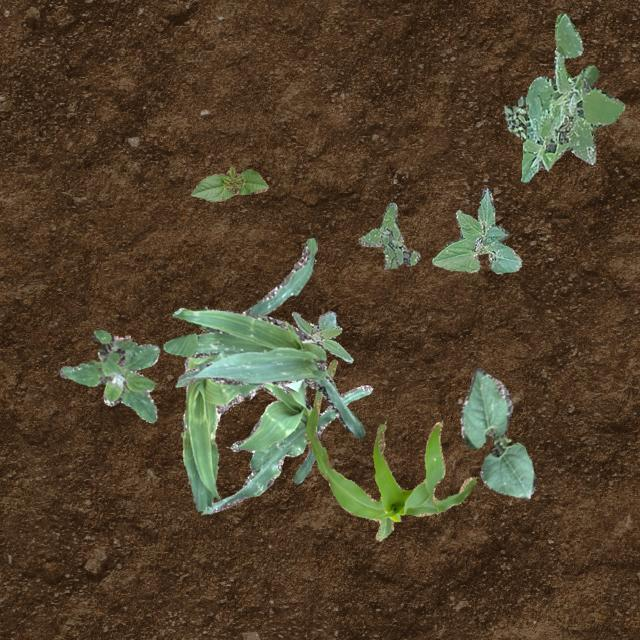crop: (180, 234, 316, 511), (304, 358, 476, 540), (162, 306, 364, 440), (200, 378, 372, 514), (460, 366, 534, 498), (430, 186, 520, 272), (190, 166, 268, 200)
weed: (520, 12, 624, 180), (58, 329, 158, 422), (356, 202, 418, 268), (290, 310, 352, 362), (502, 94, 526, 138)
